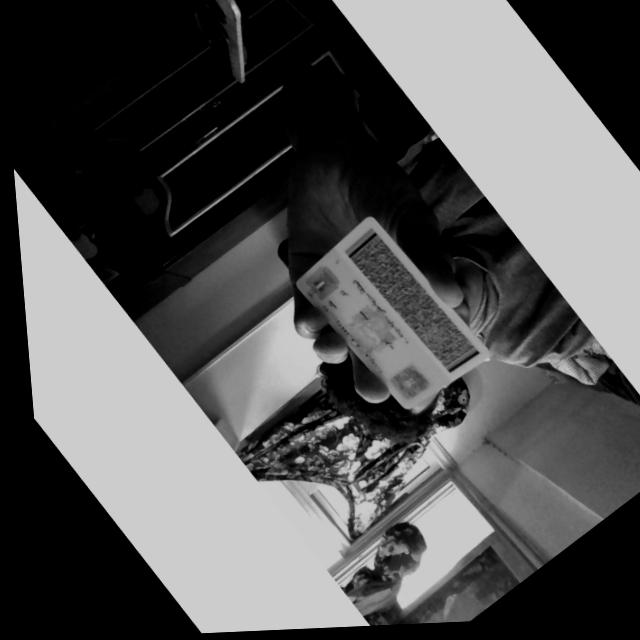id_card: (297, 216, 490, 408)
